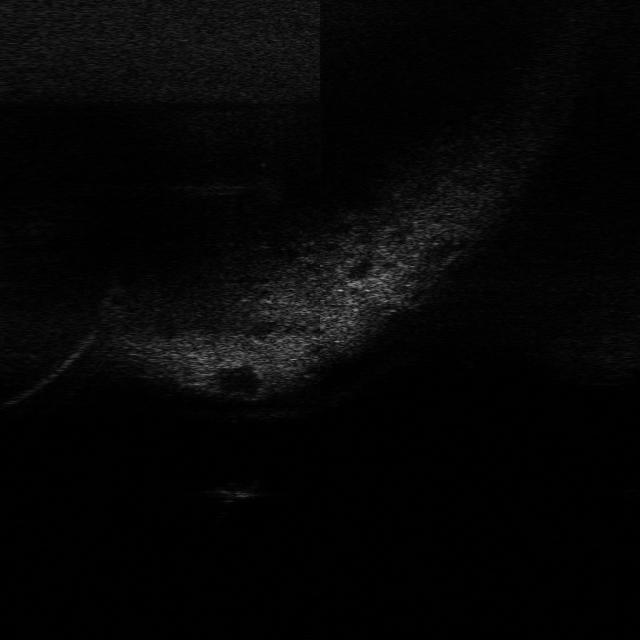cube: (206, 476, 263, 503)
